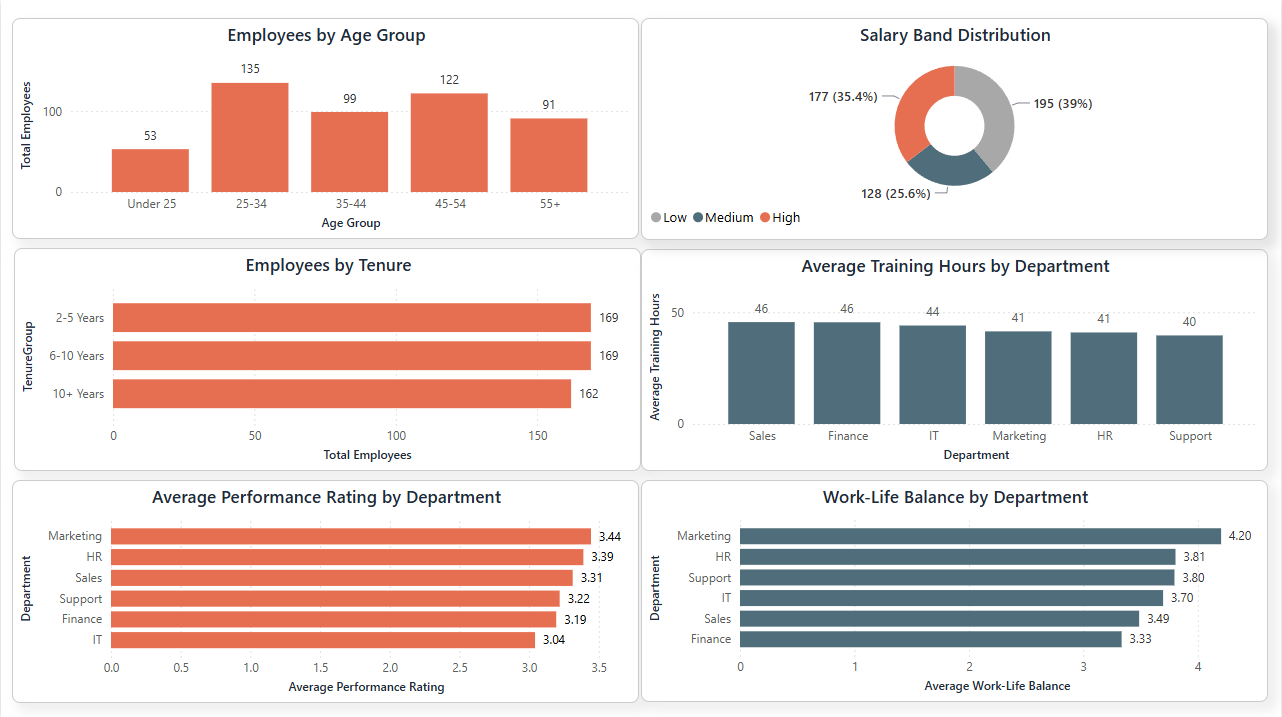

What the dashboard file says about the page in this screenshot:
{"tool":"powerbi","page":{"name":"Detailed Analytics","canvas":[1280,720],"ordinal":1},"visuals":[{"type":"clusteredColumnChart","title":"Employees by Age Group","fields":{"Category":["HR_Employee_Data.AgeGroup"],"Y":["HR_Employee_Data.Total Employees"]},"box":[10.7,17.5,627.4,221.8],"z":0},{"type":"clusteredBarChart","title":"Employees by Tenure","fields":{"Category":["HR_Employee_Data.TenureGroup"],"Y":["HR_Employee_Data.Total Employees"]},"box":[12.6,248,627.4,222.7],"z":1000},{"type":"columnChart","title":"Average Training Hours by Department","fields":{"Category":["HR_Employee_Data.Department"],"Y":["HR_Employee_Data.Average Training Hours"]},"box":[640,249,627.4,221.8],"z":2000},{"type":"barChart","title":"Average Performance Rating by Department","fields":{"Category":["HR_Employee_Data.Department"],"Y":["HR_Employee_Data.Average Performance Rating"]},"box":[10.7,480.5,627.4,222.7],"z":3000},{"type":"barChart","title":"Work-Life Balance by Department","fields":{"Category":["HR_Employee_Data.Department"],"Y":["HR_Employee_Data.Average Work-Life Balance"]},"box":[640,480,627,222],"z":4000},{"type":"donutChart","title":"Salary Band Distribution","fields":{"Category":["HR_Employee_Data.SalaryBand"],"Y":["HR_Employee_Data.Total Employees"]},"box":[640,18,627,222],"z":5000}]}

Visuals, with their boxes in screenshot pixels (x1, y1, x2, y2), scaled from the page's 1280x720 canvas onto the 1282x717 screenshot:
"Employees by Age Group" clusteredColumnChart: {"left": 11, "top": 17, "right": 639, "bottom": 238}
"Employees by Tenure" clusteredBarChart: {"left": 13, "top": 247, "right": 641, "bottom": 469}
"Average Training Hours by Department" columnChart: {"left": 641, "top": 248, "right": 1269, "bottom": 469}
"Average Performance Rating by Department" barChart: {"left": 11, "top": 478, "right": 639, "bottom": 700}
"Work-Life Balance by Department" barChart: {"left": 641, "top": 478, "right": 1269, "bottom": 699}
"Salary Band Distribution" donutChart: {"left": 641, "top": 18, "right": 1269, "bottom": 239}
